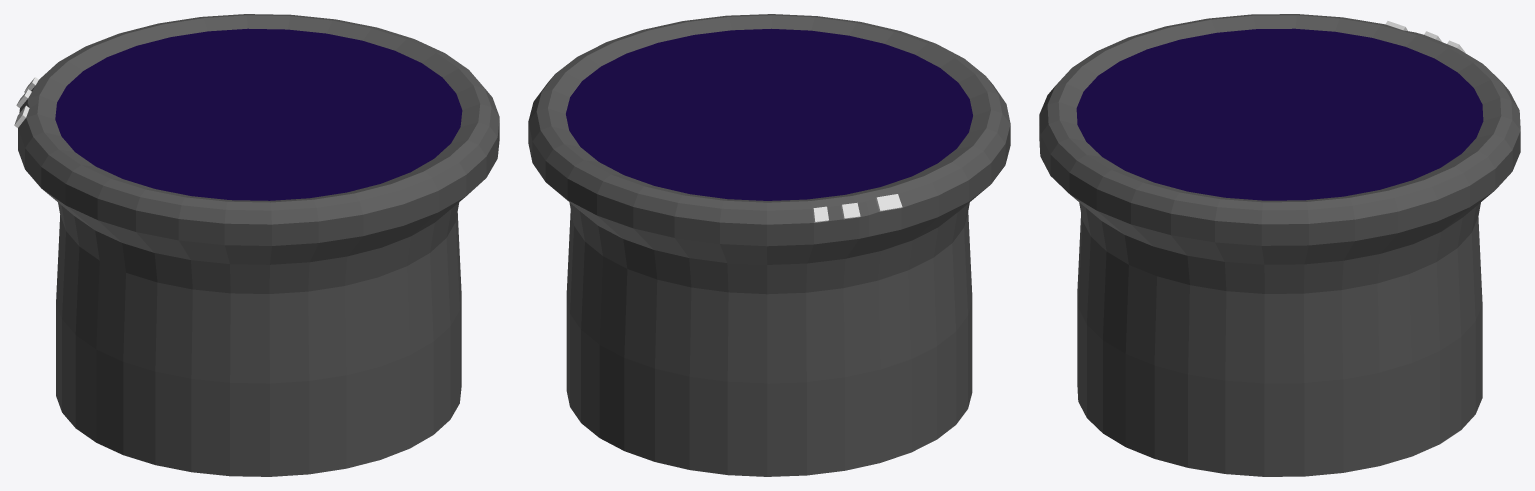
File: Board Select.fbx
The picture shows the model from 3 angles, left to right: view 1: azimuth 30°, elevation 25°; view 2: azimuth 150°, elevation 25°; view 3: azimuth 270°, elevation 25°; orthographic projection.
Parts seen in each view (by area): view 1: Board Select Holo Table; view 2: Board Select Holo Table; view 3: Board Select Holo Table.
Boxes of the visible parts, x1=… form: Board Select Holo Table: x1=14, y1=14, x2=499, y2=476; Board Select Holo Table: x1=528, y1=14, x2=1010, y2=476; Board Select Holo Table: x1=1039, y1=14, x2=1520, y2=476.
Bounding box in the file's own units: 598 × 387 × 598.
